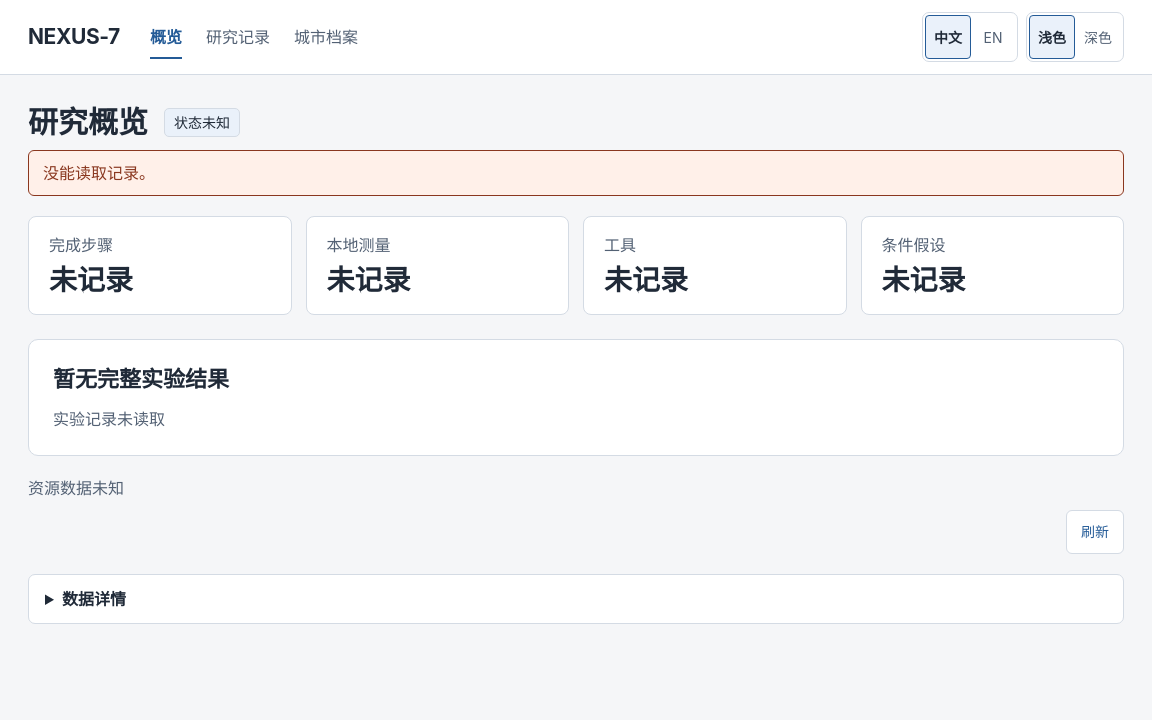
Test: HumanHome — explicit unit reference fakes, not live research evidence › times out a hung request, aborts it, and makes a read-only retry available
Expected: the message shows "没能读取记录", 43,163 -> 155,183
Click the button with aria-label "重新读取记录": (1095, 532) 1066,510 -> 1124,554
(page scrolled)
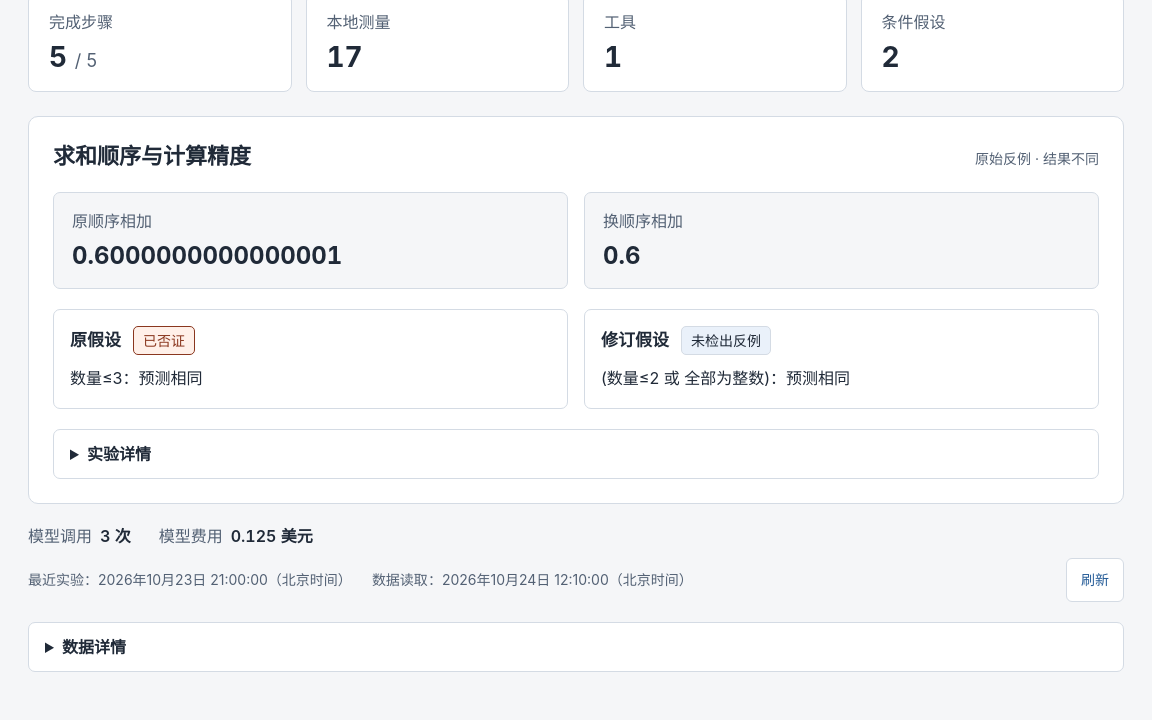
Expected: the message "没能读取记录。" is gone
